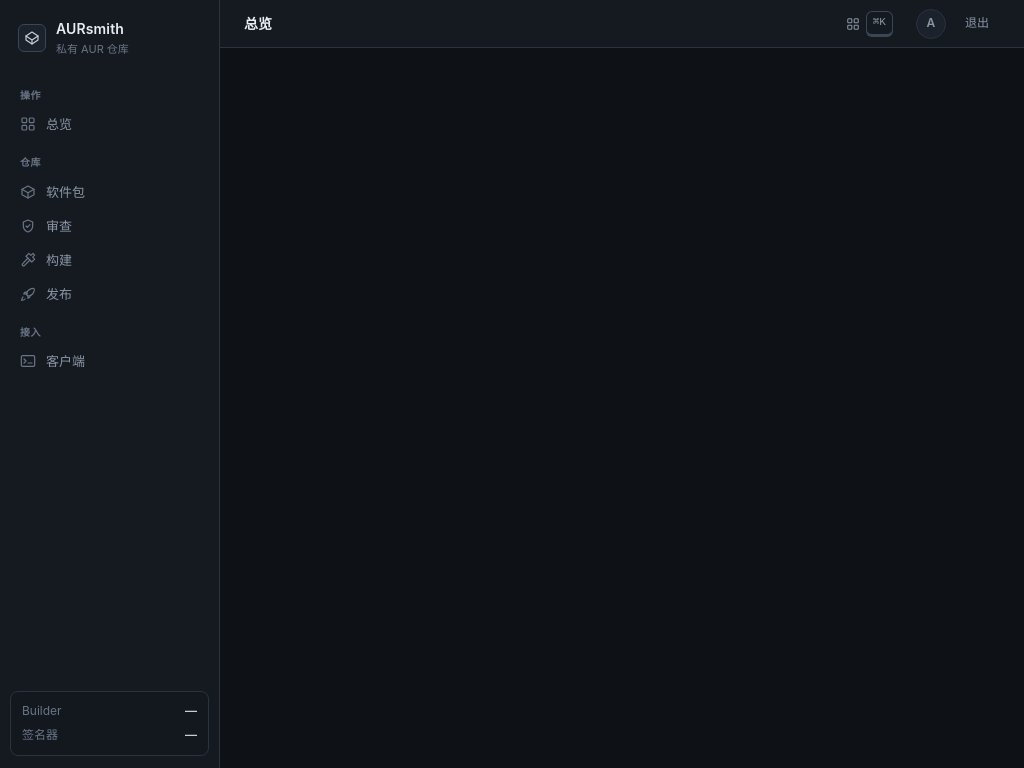
AURsmith 控制台 › 退出返回 401 时清除本地会话
What coordinates should you click on to do the following:
click the button with aria-label "退出登录"
I would click on:
 (977, 24)
Its box is [954,10,1000,38].
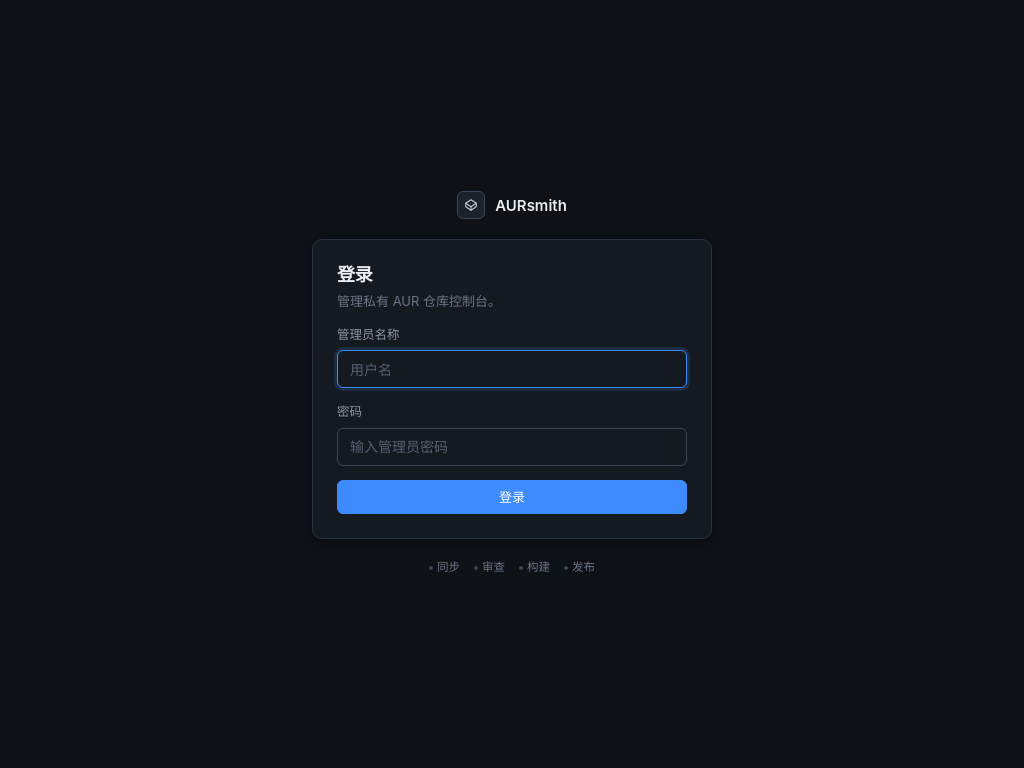
expect the button "登录" is shown: met, box [337,480,687,514]
expect the text "admin" is gone: met
